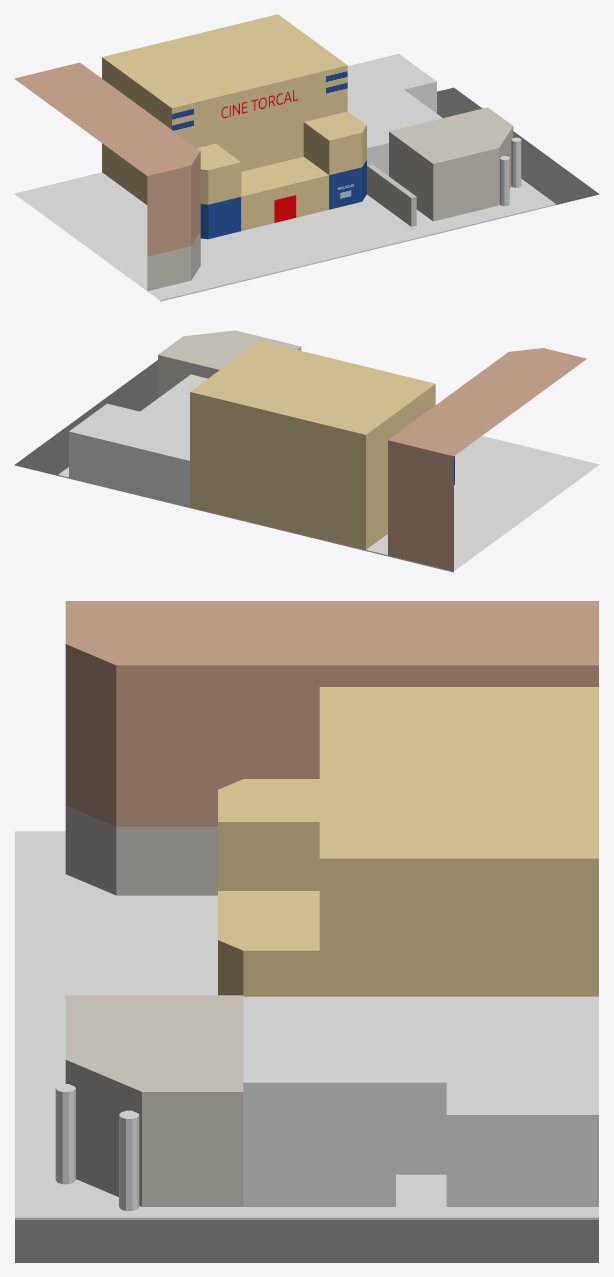
Rendered from cinema.glb.
The picture shows the model from 3 angles, top to bottom: view 1: azimuth 30°, elevation 25°; view 2: azimuth 150°, elevation 25°; view 3: azimuth 270°, elevation 25°; orthographic projection. The views are drawn at different scales.
Parts seen in each view (by area): view 1: Cine, Sidewalk, Mafia, Bank, Music School, Cylinder.001, Cylinder; view 2: Cine, Mafia, Sidewalk, Music School, Bank; view 3: Cine, Mafia, Music School, Sidewalk, Bank, Cylinder, Cylinder.001.
Part boxes in pixels (x1=…): Cine: x1=102, y1=14, x2=366, y2=239; Sidewalk: x1=14, y1=87, x2=599, y2=301; Mafia: x1=14, y1=62, x2=200, y2=291; Bank: x1=367, y1=107, x2=513, y2=226; Music School: x1=347, y1=54, x2=442, y2=175; Cylinder.001: x1=511, y1=137, x2=521, y2=187; Cylinder: x1=500, y1=156, x2=509, y2=206; Cine: x1=190, y1=341, x2=454, y2=549; Mafia: x1=388, y1=348, x2=586, y2=571; Sidewalk: x1=14, y1=360, x2=599, y2=572; Music School: x1=69, y1=374, x2=207, y2=506; Bank: x1=158, y1=330, x2=301, y2=397; Cine: x1=218, y1=687, x2=598, y2=996; Mafia: x1=65, y1=601, x2=598, y2=895; Music School: x1=243, y1=996, x2=598, y2=1206; Sidewalk: x1=15, y1=831, x2=598, y2=1262; Bank: x1=65, y1=995, x2=243, y2=1206; Cylinder: x1=55, y1=1084, x2=75, y2=1184; Cylinder.001: x1=119, y1=1110, x2=139, y2=1210.
Size of what is drawn, in the model's own units: 40 by 10.1 by 23.
10 materials, 2 textured.
